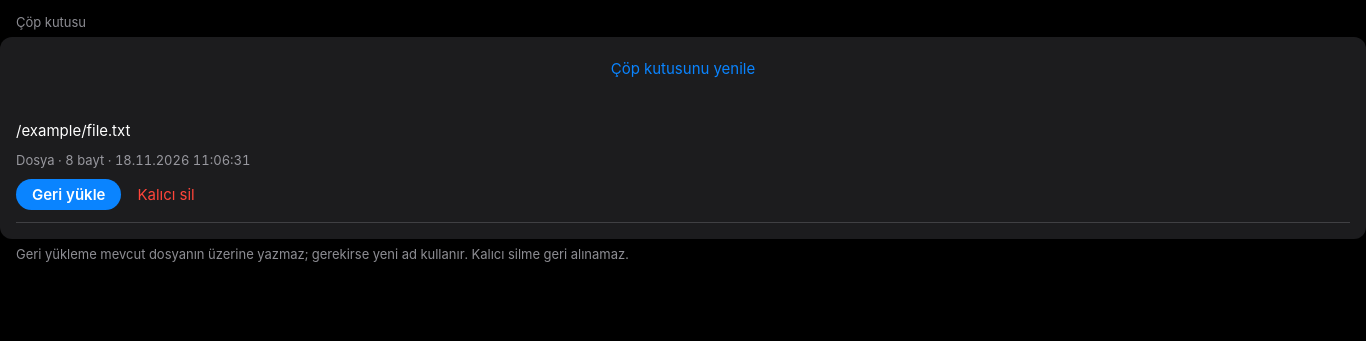
Test case: trash_timeout_shows_uncertain_result_and_relists_without_repeating_mutation
What coordinates should you click on to do the following:
click the button "Geri yükle"
I would click on:
 (69, 195)
Its box is [16, 179, 122, 210].
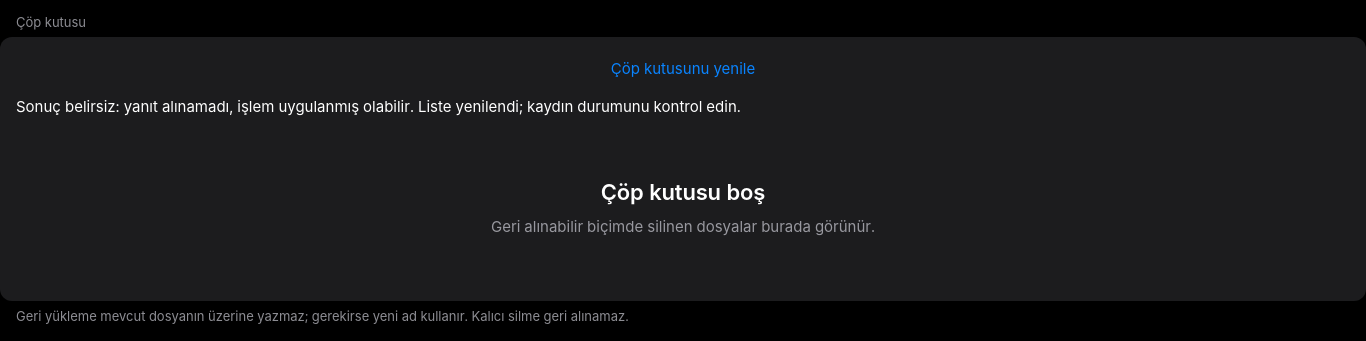
Result: the text "Sonuç belirsiz" is shown at [16, 97, 741, 116]
Result: the heading "Çöp kutusu boş" is shown at [601, 177, 765, 208]
